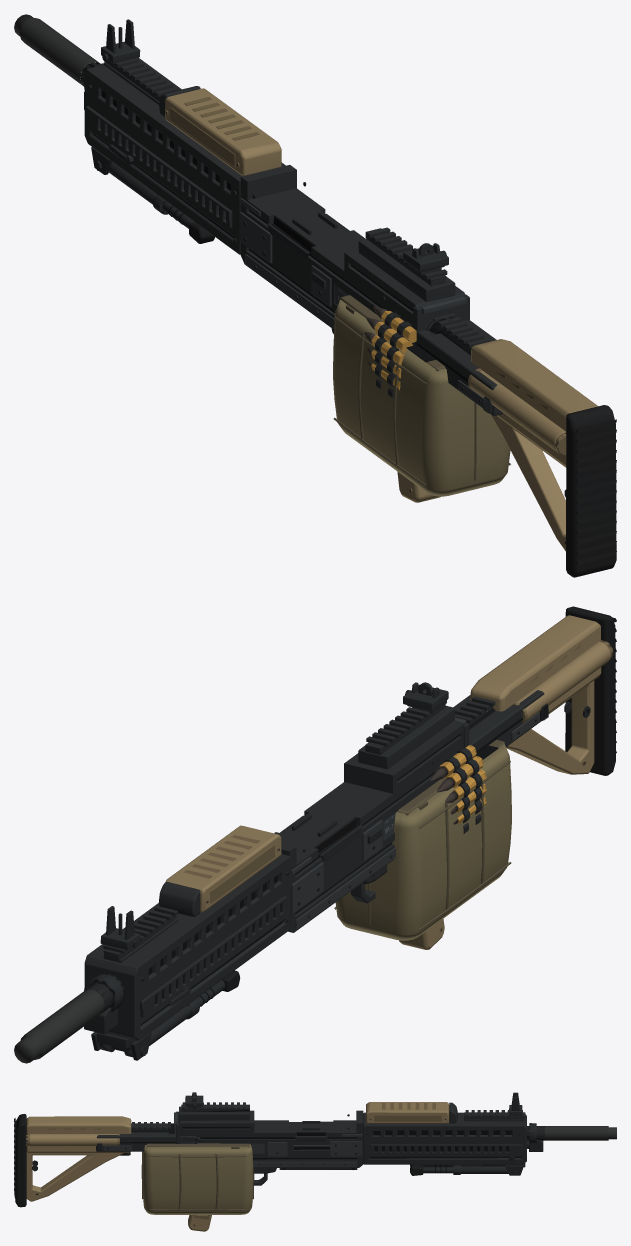
File: weapon-45-D9rX3Sx0.glb
3 views of the same model, one above another, from view 1: azimuth 30°, elevation 25°; view 2: azimuth 150°, elevation 25°; view 3: azimuth 270°, elevation 25° (orthographic). The views are drawn at different scales.
Visible parts, largest first — view 1: salient_weapon_body, salient_weapon_magazine, salient_weapon_cover, salient_weapon_belt, salient_weapon_iron; view 2: salient_weapon_body, salient_weapon_magazine, salient_weapon_cover, salient_weapon_belt, salient_weapon_iron; view 3: salient_weapon_body, salient_weapon_magazine, salient_weapon_cover, salient_weapon_iron.
Part boxes in pixels (box(x1,y1,x2,y2)): salient_weapon_body: box(14, 14, 616, 577); salient_weapon_magazine: box(333, 295, 510, 496); salient_weapon_cover: box(401, 313, 502, 415); salient_weapon_belt: box(364, 306, 416, 398); salient_weapon_iron: box(101, 19, 448, 272); salient_weapon_body: box(14, 606, 616, 1063); salient_weapon_magazine: box(334, 739, 511, 940); salient_weapon_cover: box(453, 690, 548, 756); salient_weapon_belt: box(430, 745, 486, 833); salient_weapon_iron: box(100, 682, 448, 950); salient_weapon_body: box(14, 1102, 616, 1231); salient_weapon_magazine: box(141, 1143, 254, 1214); salient_weapon_cover: box(96, 1122, 200, 1151); salient_weapon_iron: box(185, 1092, 522, 1115).
Bounding box in the file's own units: 0.0925 × 0.2485 × 1.01.
